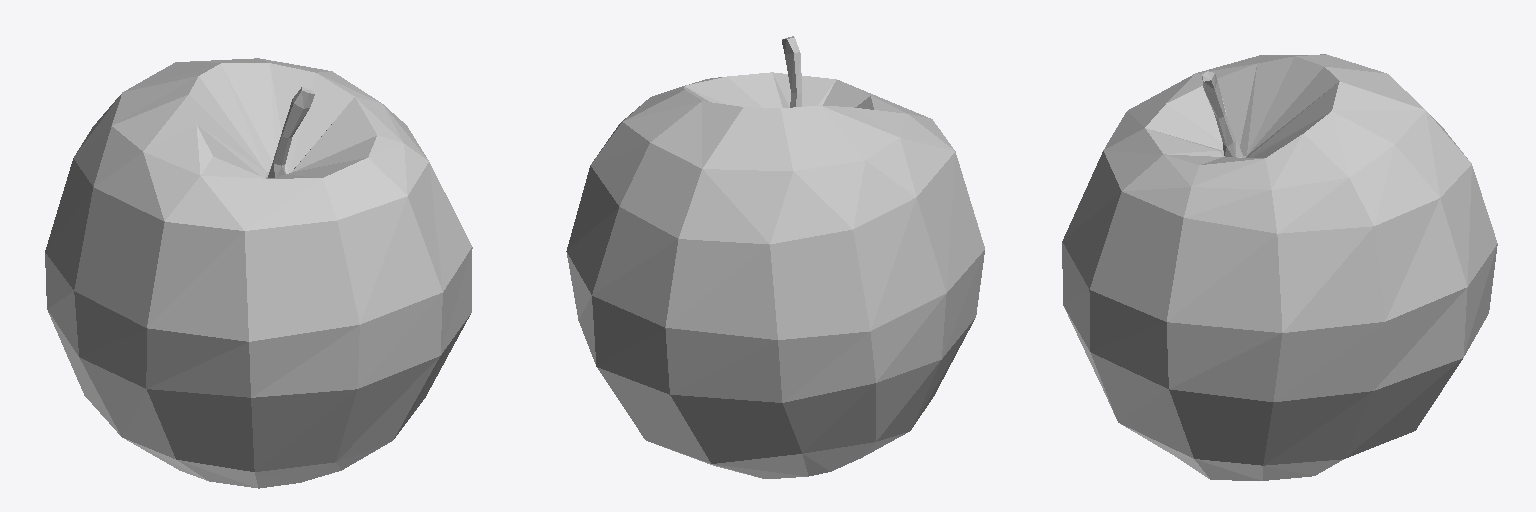
Rendered from lowapple.obj.
3 views of the same model, side by side, from view 1: azimuth 30°, elevation 25°; view 2: azimuth 150°, elevation 25°; view 3: azimuth 270°, elevation 25° (orthographic).
Parts seen in each view (by area): view 1: apple_Untitled; view 2: apple_Untitled; view 3: apple_Untitled.
Part boxes in pixels (bbox=[...]): apple_Untitled: bbox=[45, 58, 472, 488]; apple_Untitled: bbox=[566, 36, 984, 478]; apple_Untitled: bbox=[1062, 54, 1497, 480].
Size of the model in its own units: 1.05 by 1.05 by 1.1.